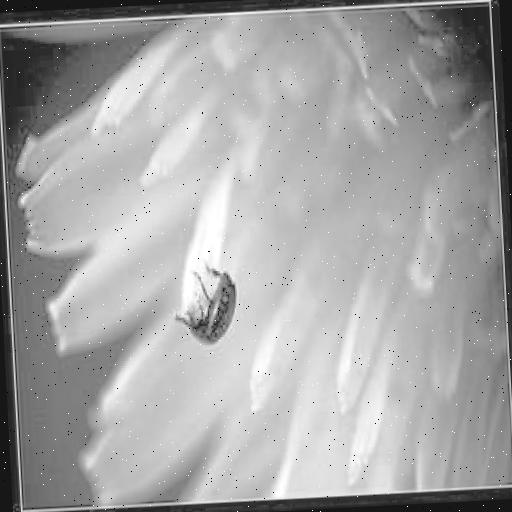dandelion: (1, 4, 512, 505)
